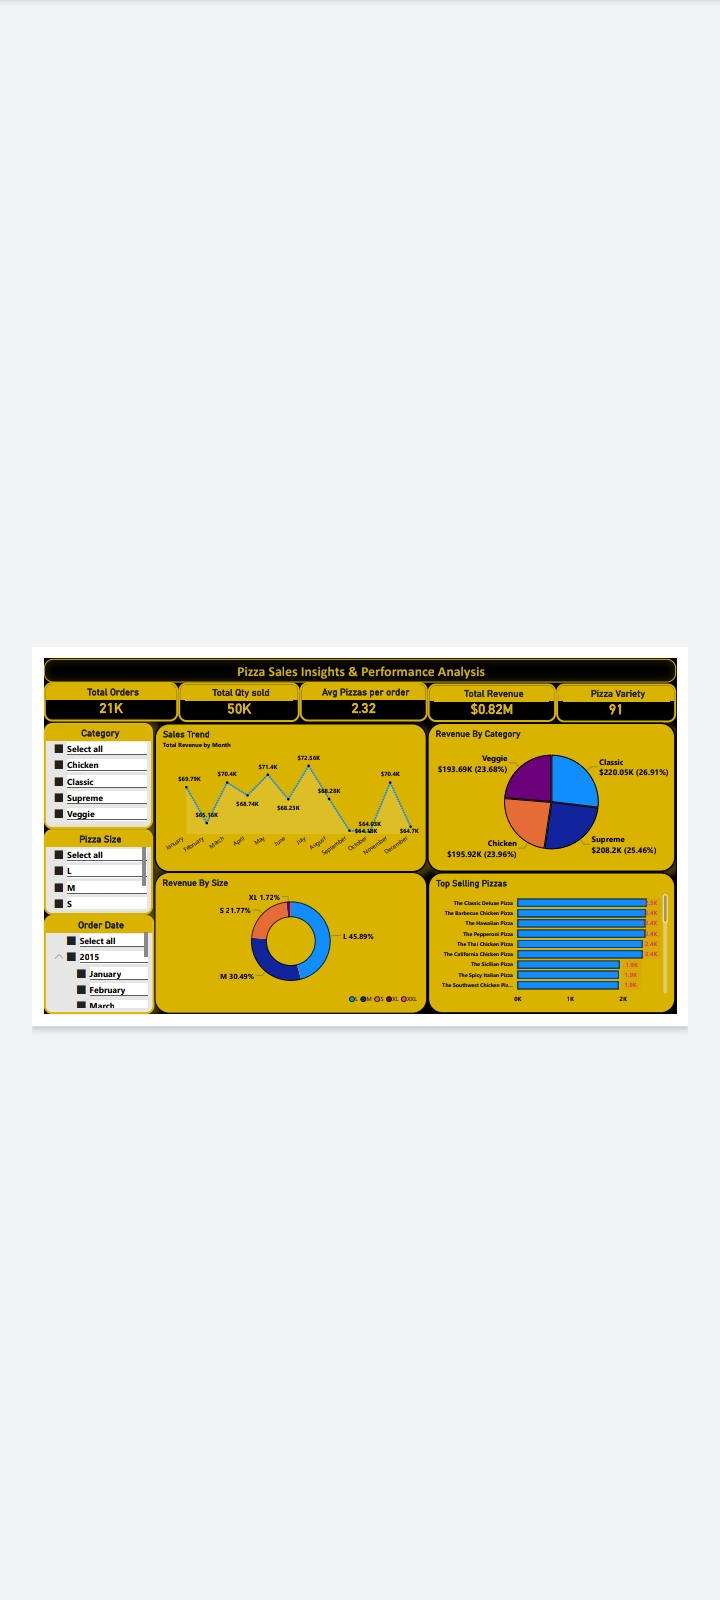

This screenshot's page, from the dashboard's own definition file:
{"tool":"powerbi","page":{"name":"Page 1","canvas":[1280,720],"ordinal":0},"visuals":[{"type":"textbox","title":"Pizza Sales Insights & Performance Analysis","box":[0,0,1280,47.5],"z":0},{"type":"card","title":"Total Orders","fields":{"Values":["order_details.Total Orders"]},"box":[0,46.9,271.6,79.6],"z":1000},{"type":"card","title":"Total Qty sold","fields":{"Values":["order_details.Total Quantity Sold"]},"box":[271.6,48.4,246,79.6],"z":2000},{"type":"card","title":"Total Revenue","fields":{"Values":["order_details.Total Revenue"]},"box":[776.5,49.8,260.3,78.2],"z":3000},{"type":"card","title":"Avg Pizzas per order","fields":{"Values":["order_details.Avg Items per Order"]},"box":[517.7,46.9,258.8,79.6],"z":4000},{"type":"card","title":"Pizza Variety","fields":{"Values":["order_details.Unique Pizzas Sold"]},"box":[1036.8,49.8,243.2,79.6],"z":5000},{"type":"slicer","title":"Category","fields":{"Values":["pizza_types.category"]},"box":[0,130,221.2,215],"z":6000},{"type":"slicer","title":"Pizza Size","fields":{"Values":["pizzas.size"]},"box":[0,344.8,220.7,174.6],"z":7000},{"type":"slicer","title":"Order Date","fields":{"Values":["orders.date.Variation.Date Hierarchy.Year","orders.date.Variation.Date Hierarchy.Month"]},"box":[0,519.4,223.6,200.5],"z":8000},{"type":"lineChart","title":"Sales Trend ","fields":{"Category":["orders.date.Variation.Date Hierarchy.Month"],"Y":["order_details.Total Revenue"]},"box":[223.8,130,552.5,302.5],"z":9000},{"type":"pieChart","title":"Revenue By Category","fields":{"Category":["pizza_types.category"],"Y":["order_details.Total Revenue"]},"box":[776.5,129.4,502.9,302.9],"z":10000},{"type":"donutChart","title":"Revenue By Size","fields":{"Category":["pizzas.size"],"Y":["order_details.Total Revenue"]},"box":[223.5,432.4,552.9,286.8],"z":11000},{"type":"clusteredBarChart","title":"Top Selling Pizzas","fields":{"Category":["pizza_types.name"],"Y":["order_details.Total Quantity Sold"]},"box":[777,432,502,287],"z":11001}]}

Visuals, with their boxes on the page's 1280x720 design canvas (x1, y1, x2, y2). These are canvas units, not pixel positions in the 720x1600 screenshot, which may show the page scaled, cropped or inside an application window:
"Pizza Sales Insights & Performance Analysis" textbox: bbox=(0, 0, 1280, 48)
"Total Orders" card: bbox=(0, 47, 272, 126)
"Total Qty sold" card: bbox=(272, 48, 518, 128)
"Total Revenue" card: bbox=(776, 50, 1037, 128)
"Avg Pizzas per order" card: bbox=(518, 47, 776, 126)
"Pizza Variety" card: bbox=(1037, 50, 1280, 129)
"Category" slicer: bbox=(0, 130, 221, 345)
"Pizza Size" slicer: bbox=(0, 345, 221, 519)
"Order Date" slicer: bbox=(0, 519, 224, 720)
"Sales Trend " lineChart: bbox=(224, 130, 776, 432)
"Revenue By Category" pieChart: bbox=(776, 129, 1279, 432)
"Revenue By Size" donutChart: bbox=(224, 432, 776, 719)
"Top Selling Pizzas" clusteredBarChart: bbox=(777, 432, 1279, 719)
